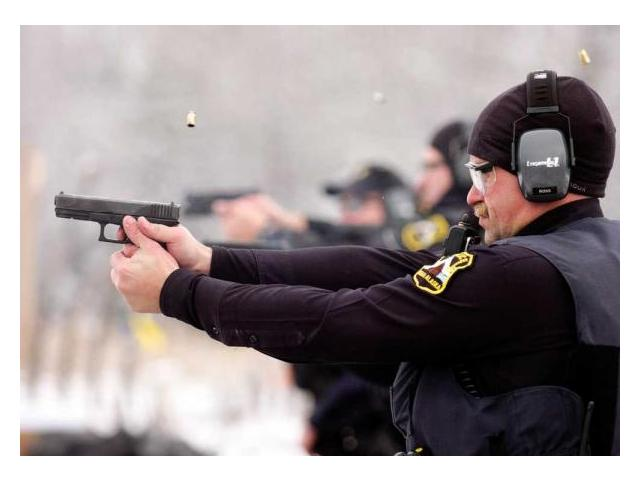pistol: (49, 192, 184, 317)
